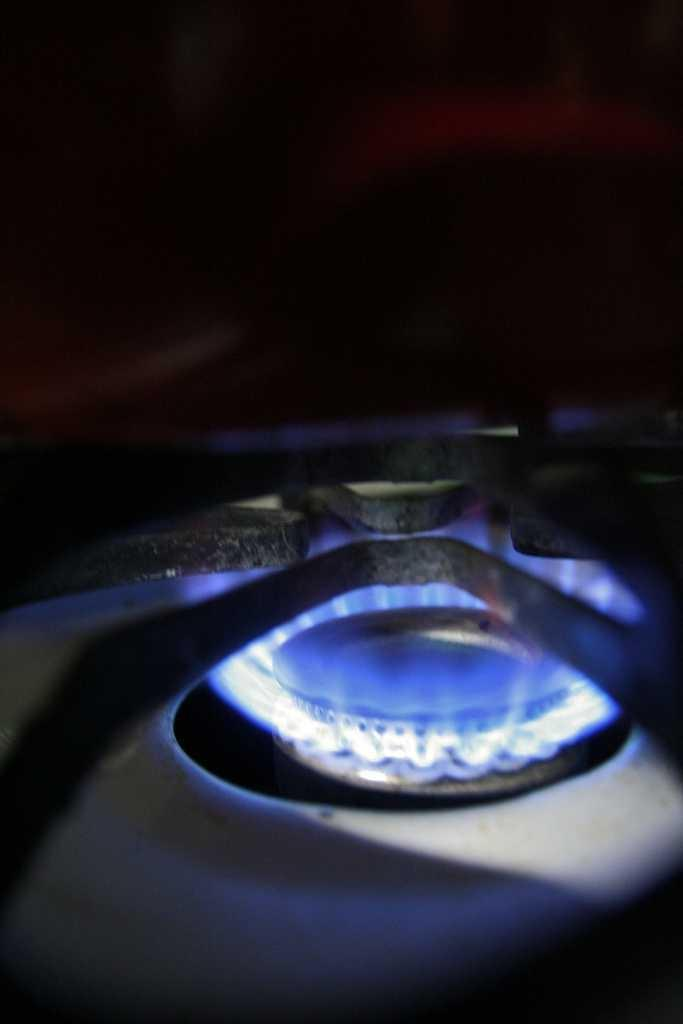fire: (247, 521, 637, 776)
